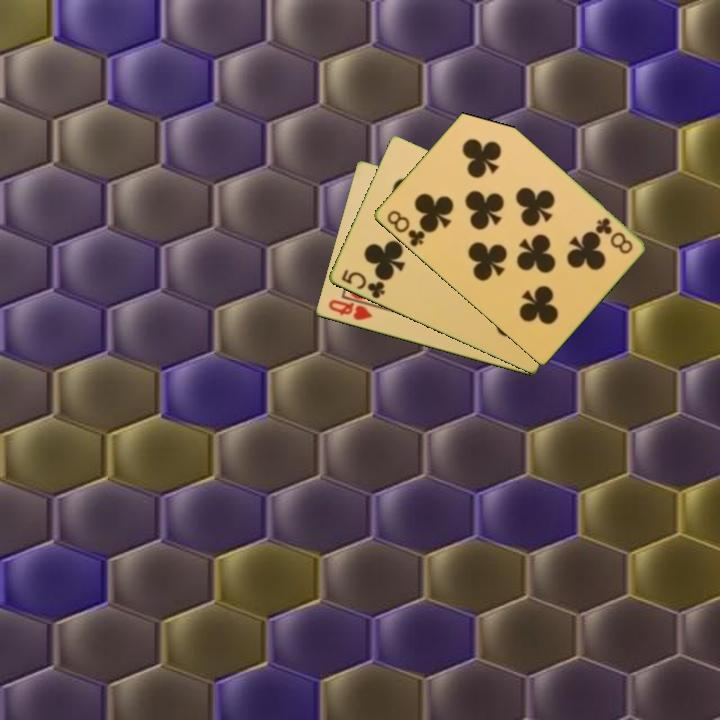5c: (338, 266, 388, 302)
8c: (383, 207, 428, 250), (591, 214, 635, 257)
Qh: (324, 296, 375, 323)
